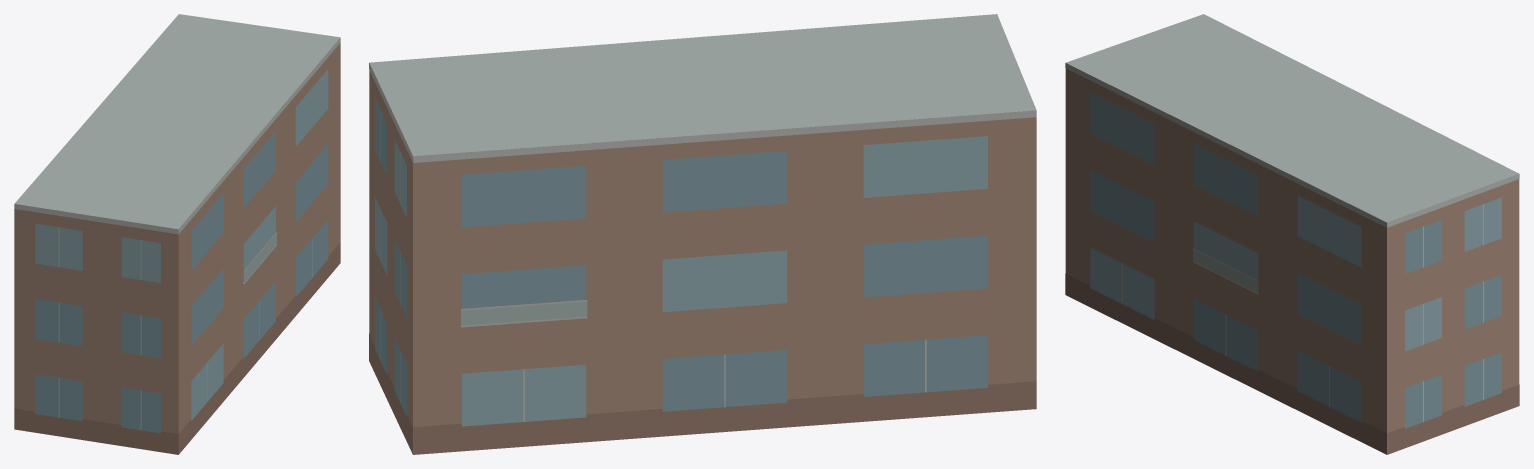
Rendered from survey-upis-32840124.glb.
The picture shows the model from 3 angles, left to right: view 1: azimuth 30°, elevation 25°; view 2: azimuth 150°, elevation 25°; view 3: azimuth 270°, elevation 25°; orthographic projection. The views are drawn at different scales.
Visible parts, largest first — view 1: survey-upis-32840124.tmp; view 2: survey-upis-32840124.tmp; view 3: survey-upis-32840124.tmp.
Boxes of the visible parts, x1=… form: survey-upis-32840124.tmp: x1=14, y1=14, x2=340, y2=454; survey-upis-32840124.tmp: x1=369, y1=14, x2=1036, y2=454; survey-upis-32840124.tmp: x1=1065, y1=14, x2=1519, y2=454.
Size of the model in its own units: 20.82 by 10.8 by 19.14.
